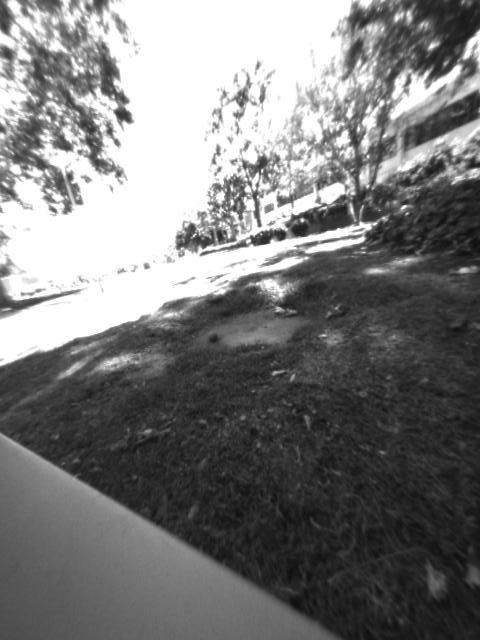dogtoy: (196, 324, 230, 350)
